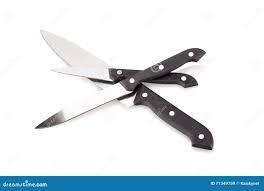Knife: (35, 28, 213, 150)
